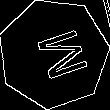M_W: (22, 24, 85, 84)
